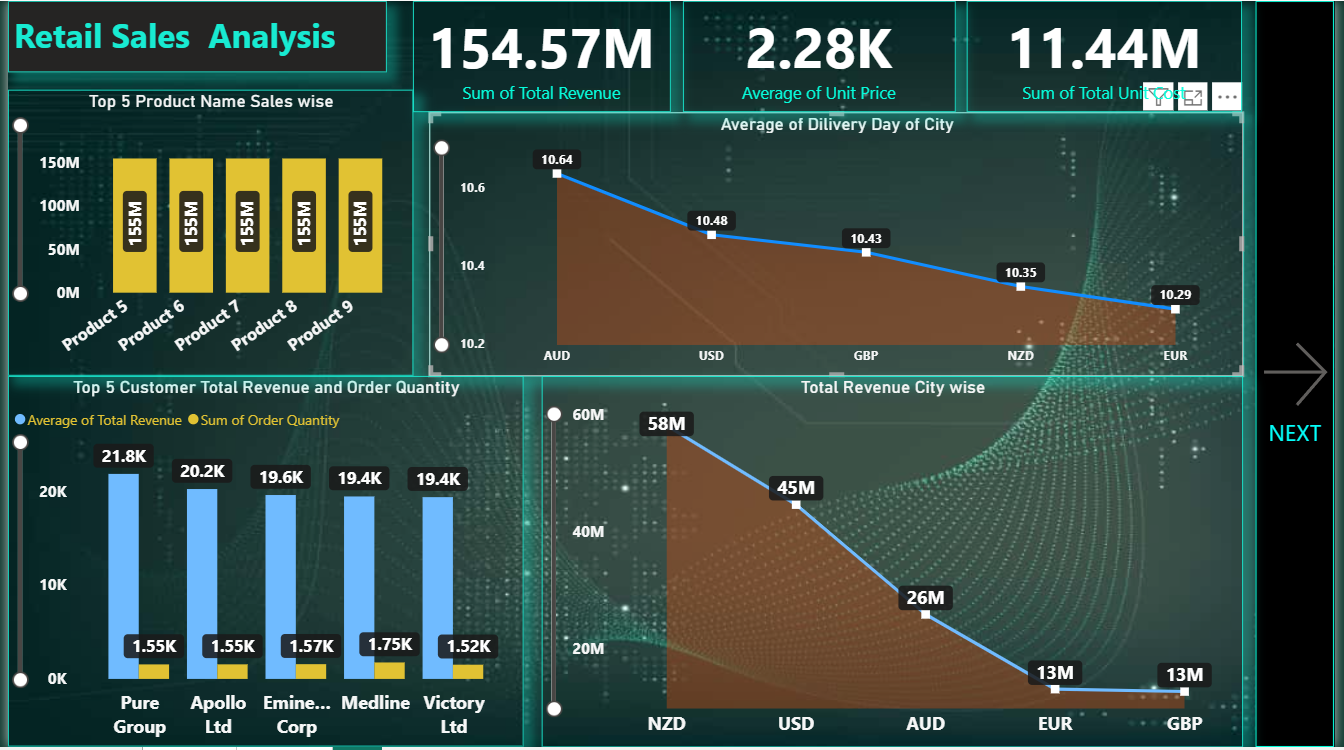

Layout of this report page (visuals, bound fields, positions):
{"tool":"powerbi","page":{"name":"Page 1","canvas":[1280,720],"ordinal":0},"visuals":[{"type":"textbox","box":[0,0,365.6,68.8],"z":0},{"type":"lineChart","title":"Average of Dilivery Day of City","fields":{"Y":["Avg(Sales Orders.diliver time)"],"Category":["Sales Orders.Currency Code"]},"box":[406.2,107.5,786.2,255],"z":1000},{"type":"shape","box":[1204.3,0,75.7,720],"z":2000},{"type":"clusteredColumnChart","title":"Top 5 Customer Total Revenue and  Order Quantity","fields":{"Category":["Customers.Customer Names"],"Y":["Avg(Sales Orders.Total Revenue)","Sum(Sales Orders.Order Quantity)"]},"box":[0,362.5,497.5,357.5],"z":3000},{"type":"areaChart","title":"Total Revenue City wise","fields":{"Y":["Sum(Sales Orders.Total Revenue)"],"Category":["Sales Orders.Currency Code"]},"box":[515.2,361.9,676.8,358.3],"z":4000},{"type":"actionButton","box":[1204.3,0,75.7,720],"z":5000},{"type":"card","fields":{"Values":["Sum(Sales Orders.Total Revenue)"]},"box":[391.4,0,248.6,107.1],"z":6000},{"type":"card","fields":{"Values":["Avg(Sales Orders.Unit Price)"]},"box":[651.4,0,262.9,107.1],"z":7000},{"type":"card","fields":{"Values":["Sum(Sales Orders.Total Unit Cost)"]},"box":[925.7,0,265.7,107.1],"z":8000},{"type":"textbox","box":[1204,396.9,76,322.1],"z":9000},{"type":"clusteredColumnChart","title":"Top 5   Product Name Sales wise","fields":{"Category":["Products.Product Name"],"Y":["Sum(Sales Orders.Total Revenue)"]},"box":[0,85.7,390.9,276.3],"z":10000}]}

Visuals, with their boxes in screenshot pixels (x1, y1, x2, y2), scaled from the page's 1280x720 canvas onto the 1344x750 screenshot:
textbox: {"left": 0, "top": 0, "right": 384, "bottom": 72}
"Average of Dilivery Day of City" lineChart: {"left": 427, "top": 112, "right": 1252, "bottom": 378}
shape: {"left": 1265, "top": 0, "right": 1343, "bottom": 749}
"Top 5 Customer Total Revenue and  Order Quantity" clusteredColumnChart: {"left": 0, "top": 378, "right": 522, "bottom": 749}
"Total Revenue City wise" areaChart: {"left": 541, "top": 377, "right": 1252, "bottom": 749}
actionButton: {"left": 1265, "top": 0, "right": 1343, "bottom": 749}
card - Sum(Sales Orders.Total Revenue): {"left": 411, "top": 0, "right": 672, "bottom": 112}
card - Avg(Sales Orders.Unit Price): {"left": 684, "top": 0, "right": 960, "bottom": 112}
card - Sum(Sales Orders.Total Unit Cost): {"left": 972, "top": 0, "right": 1251, "bottom": 112}
textbox: {"left": 1264, "top": 413, "right": 1343, "bottom": 749}
"Top 5   Product Name Sales wise" clusteredColumnChart: {"left": 0, "top": 89, "right": 410, "bottom": 377}
